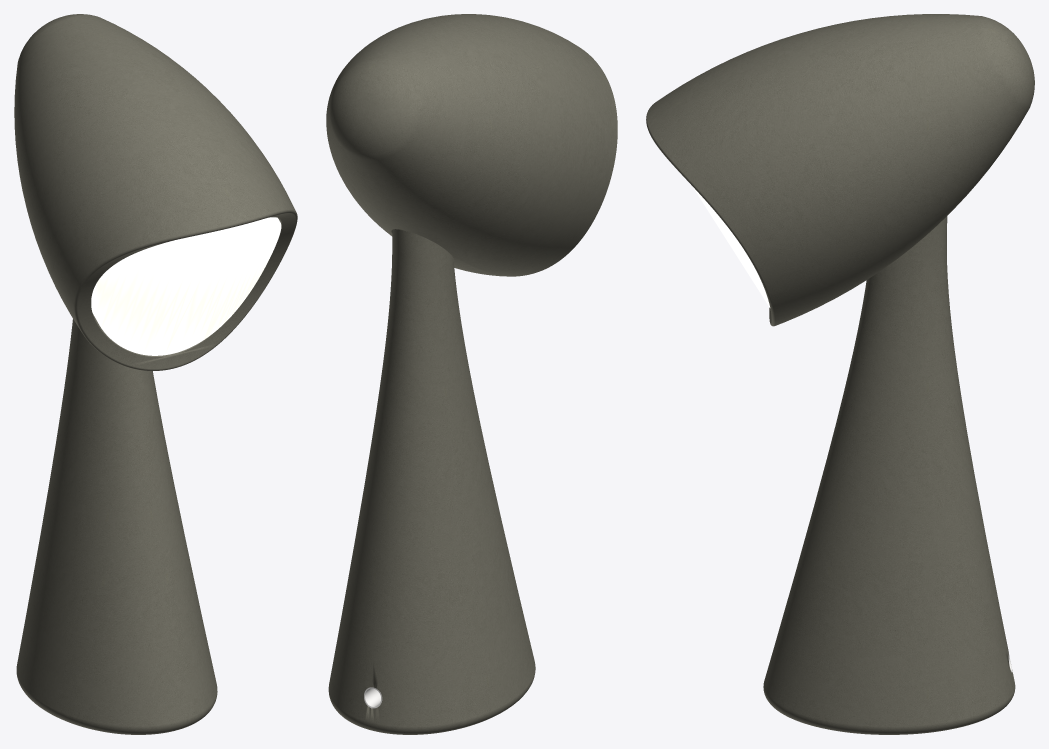
File: redel.glb
The picture shows the model from 3 angles, left to right: view 1: azimuth 30°, elevation 25°; view 2: azimuth 150°, elevation 25°; view 3: azimuth 270°, elevation 25°; orthographic projection. The views are drawn at different scales.
Parts seen in each view (by area): view 1: Holo; view 2: Holo; view 3: Holo.
Part boxes in pixels (<box>): Holo: <box>14,14,297,734</box>; Holo: <box>326,14,617,734</box>; Holo: <box>646,14,1034,734</box>.
Size of the model in its own units: 0.0913 by 0.2607 by 0.1358.
6 materials, 3 textured.
